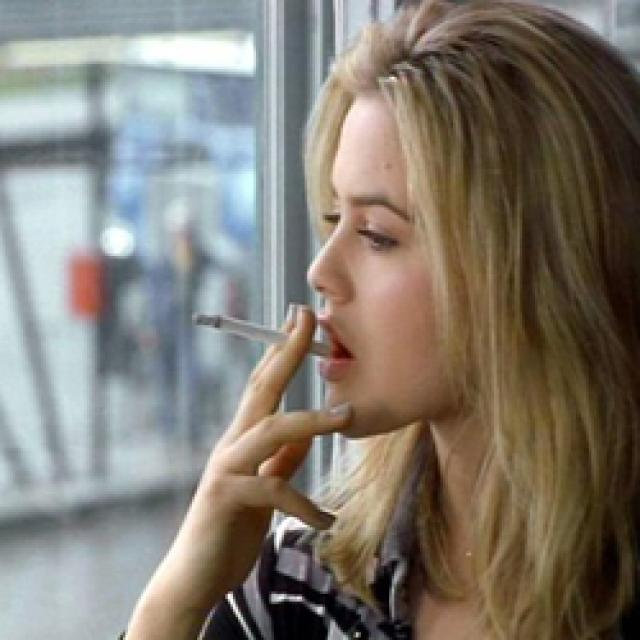Smooking: (167, 296, 326, 366)
